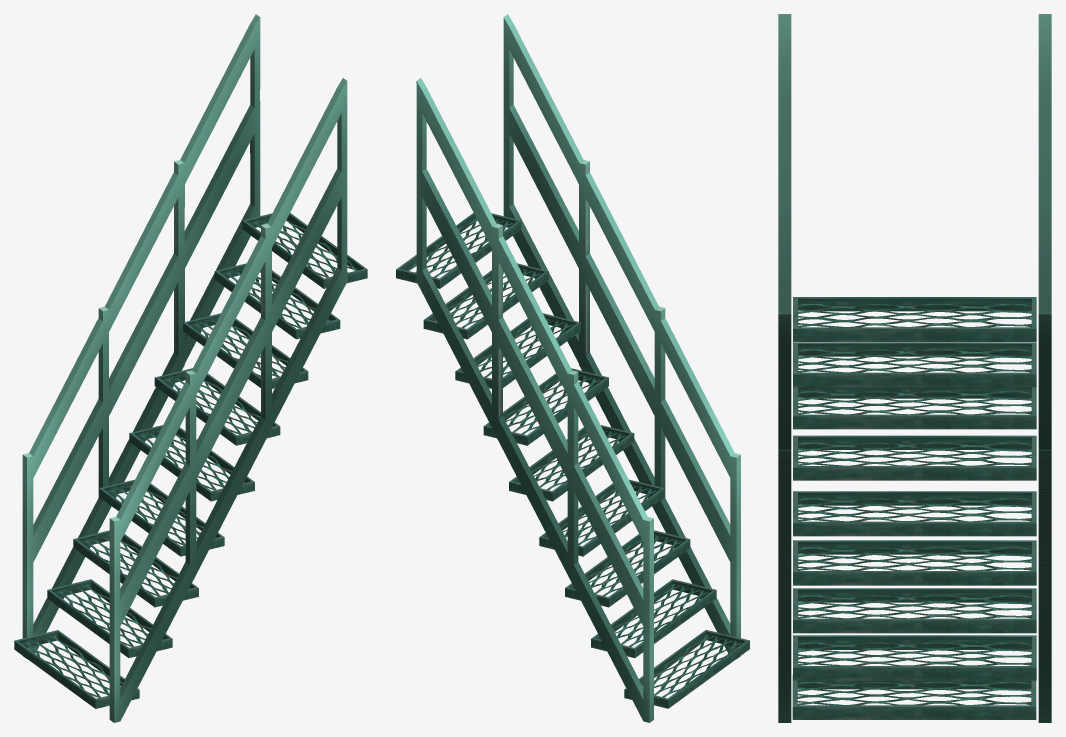
Rendered from trap .fbx.
3 views of the same model, side by side, from view 1: azimuth 30°, elevation 25°; view 2: azimuth 150°, elevation 25°; view 3: azimuth 270°, elevation 25° (orthographic). The views are drawn at different scales.
Visible parts, largest first — view 1: pasted__pCube7; view 2: pasted__pCube7; view 3: pasted__pCube7.
Boxes of the visible parts, <box> form: pasted__pCube7: <box>14,14,367,722</box>; pasted__pCube7: <box>396,14,749,722</box>; pasted__pCube7: <box>778,14,1051,722</box>.
Bounding box in the file's own units: 2.36 × 4.85 × 1.37.
3 materials, 3 textured.
